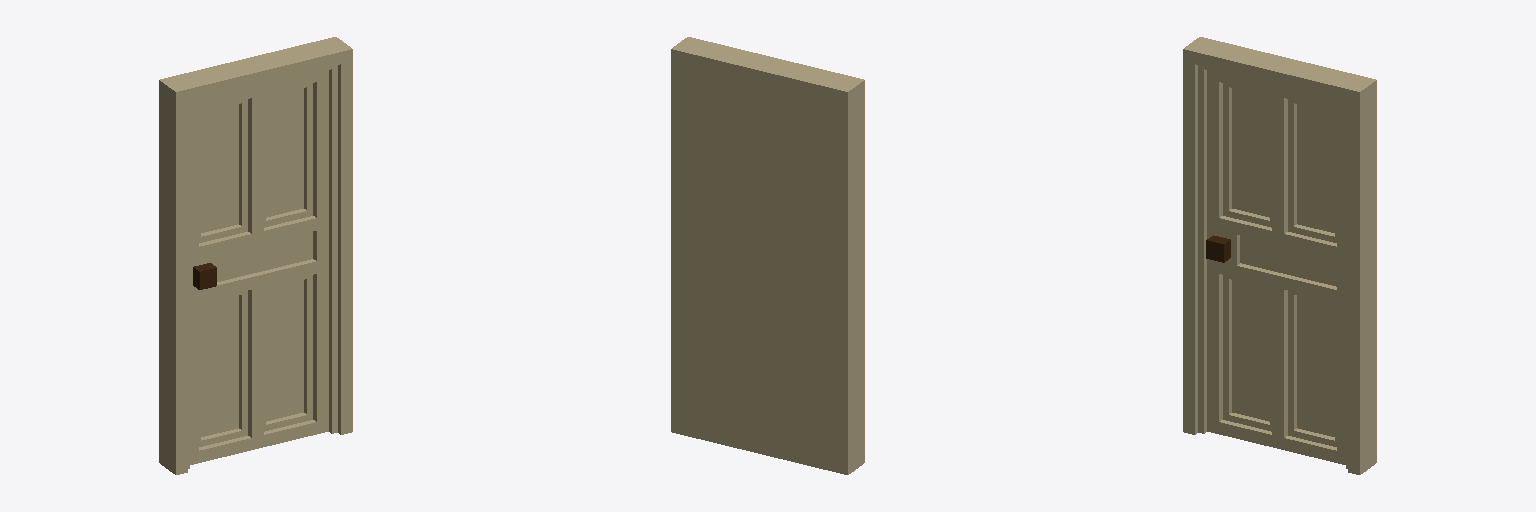
3 views of the same model, side by side, from view 1: azimuth 30°, elevation 25°; view 2: azimuth 150°, elevation 25°; view 3: azimuth 330°, elevation 25° (orthographic).
Parts seen in each view (by area): view 1: object 1; view 2: object 1; view 3: object 1.
Part boxes in pixels (bbox=[...]): object 1: bbox=[159, 37, 352, 474]; object 1: bbox=[671, 37, 864, 474]; object 1: bbox=[1183, 37, 1376, 474].
Size of the model in its own units: 3 by 6.2 by 0.5.
Materials: 1 (1 with a texture image).